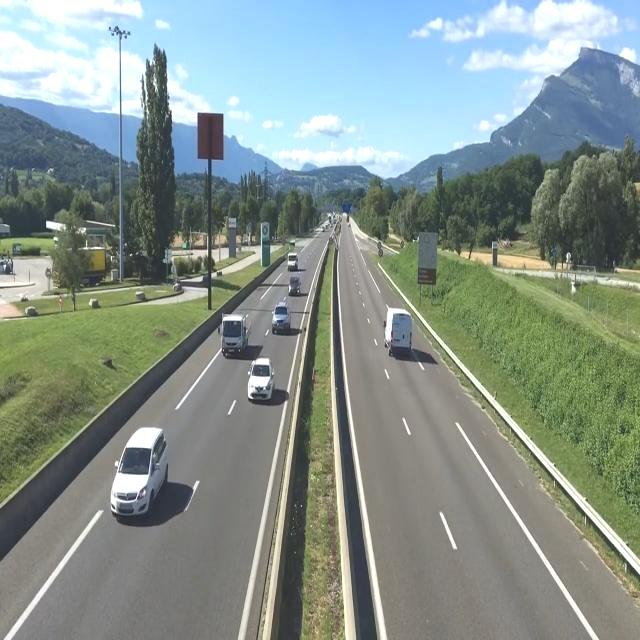Car: (110, 427, 170, 516), (245, 358, 275, 401), (271, 302, 291, 335), (288, 276, 302, 296)
Truck: (218, 312, 252, 359)
Van: (382, 308, 414, 359), (287, 253, 299, 271)
